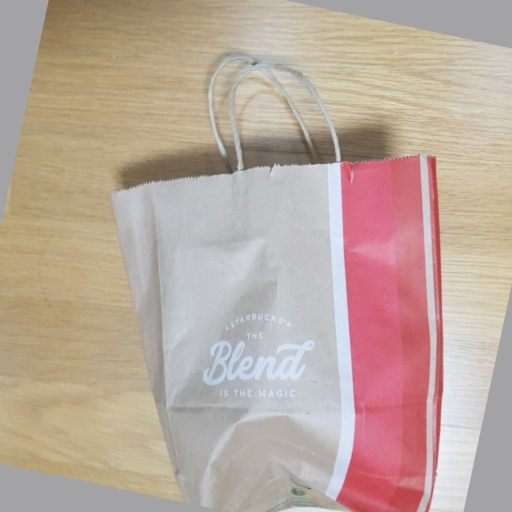Paper_0: (107, 151, 445, 512)
